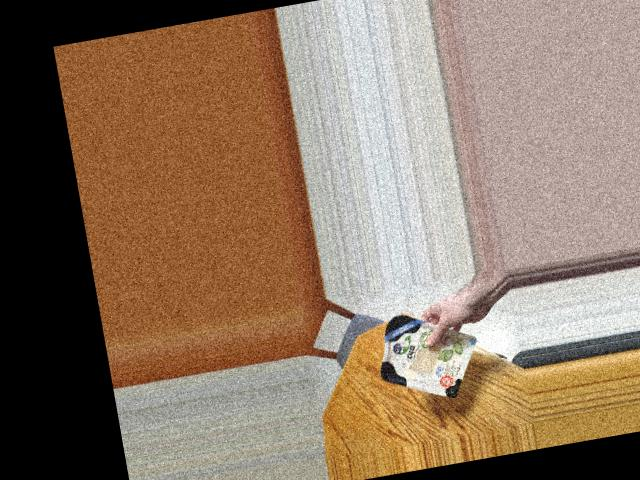cheese: (369, 299, 475, 404)
